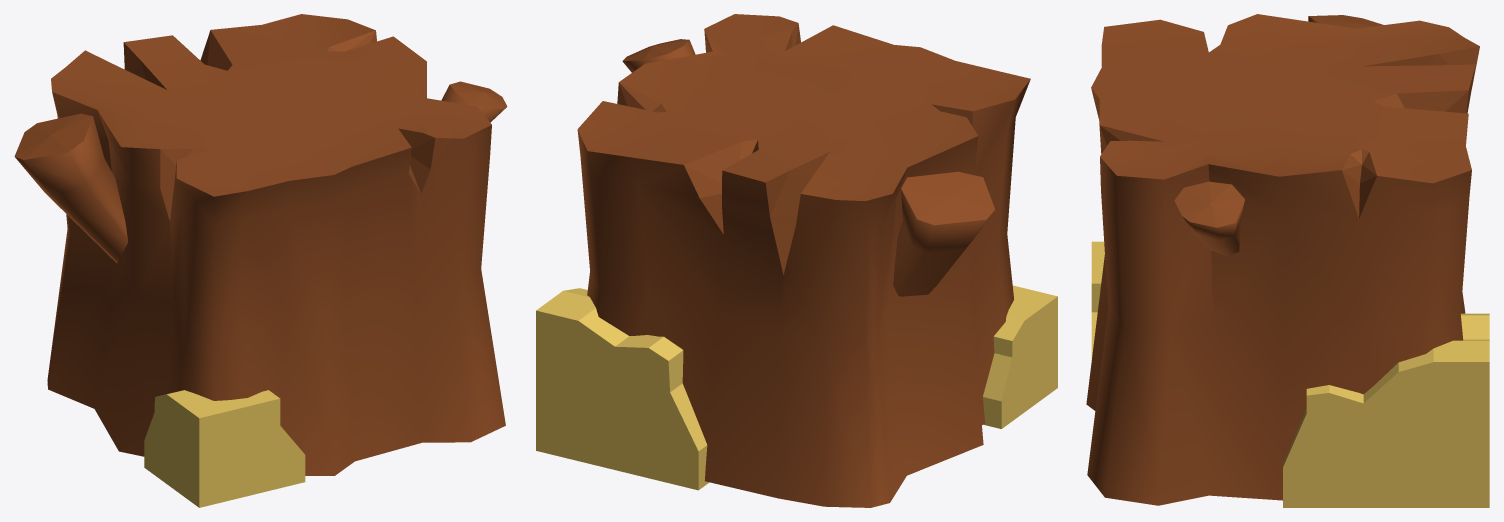
Rendered from WoodenBox.fbx.
The picture shows the model from 3 angles, left to right: view 1: azimuth 30°, elevation 25°; view 2: azimuth 150°, elevation 25°; view 3: azimuth 270°, elevation 25°; orthographic projection. The views are drawn at different scales.
Visible parts, largest first — view 1: Wood, Corner_Small, Branch_1, Branch_2; view 2: Wood, Corner_Big, Branch_1, Corner_Small, Branch_2; view 3: Wood, Corner_Big, Branch_2, Corner_Small, Branch_1.
Part boxes in pixels (bbox=[...]): Wood: bbox=[47, 14, 505, 475]; Corner_Small: bbox=[144, 390, 305, 507]; Branch_1: bbox=[14, 113, 128, 262]; Branch_2: bbox=[441, 81, 507, 122]; Wood: bbox=[577, 14, 1030, 507]; Corner_Big: bbox=[536, 288, 709, 490]; Branch_1: bbox=[893, 171, 995, 296]; Corner_Small: bbox=[983, 285, 1057, 428]; Branch_2: bbox=[622, 39, 695, 72]; Wood: bbox=[1086, 14, 1479, 505]; Corner_Big: bbox=[1283, 313, 1489, 507]; Branch_2: bbox=[1174, 181, 1244, 256]; Corner_Small: bbox=[1091, 241, 1104, 359]; Branch_1: bbox=[1308, 15, 1383, 28].
Bounding box in the file's own units: 132 × 93.78 × 103.
